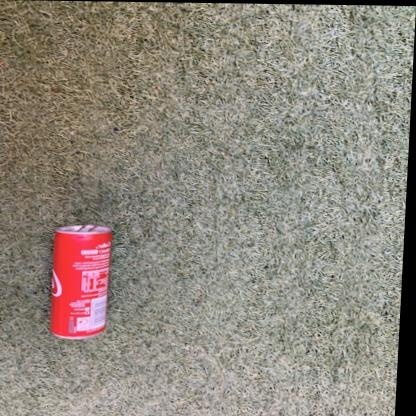trash: (51, 224, 111, 338)
